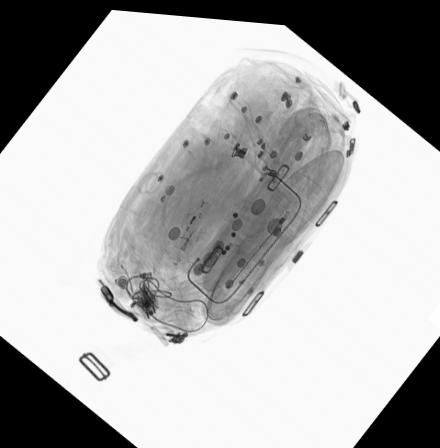Lighter: (173, 196, 213, 247)
